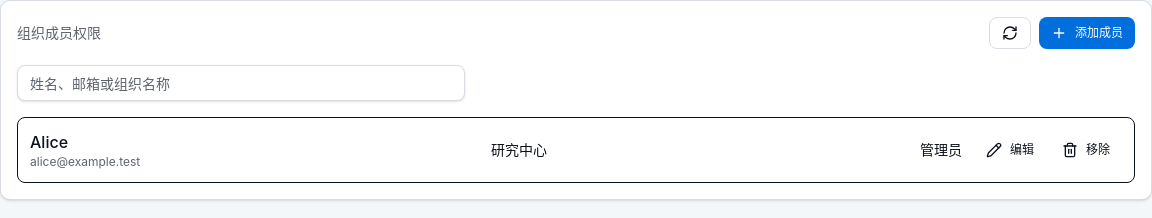
does not display old member data after a read error
The width and height of the screenshot is (1152, 218).
Expected: the text "Alice" is shown, left=30, top=132, right=68, bottom=152
What coordinates should you click on to do the following:
click the button named "刷新组织成员"
I would click on:
 (1010, 33)
Its box is left=989, top=17, right=1031, bottom=49.
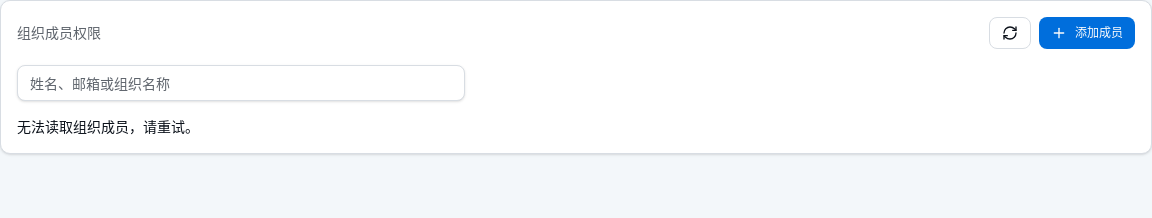
Now the message "无法读取组织成员，请重试。" is shown, box left=17, top=118, right=199, bottom=135
Now the text "Alice" is gone
